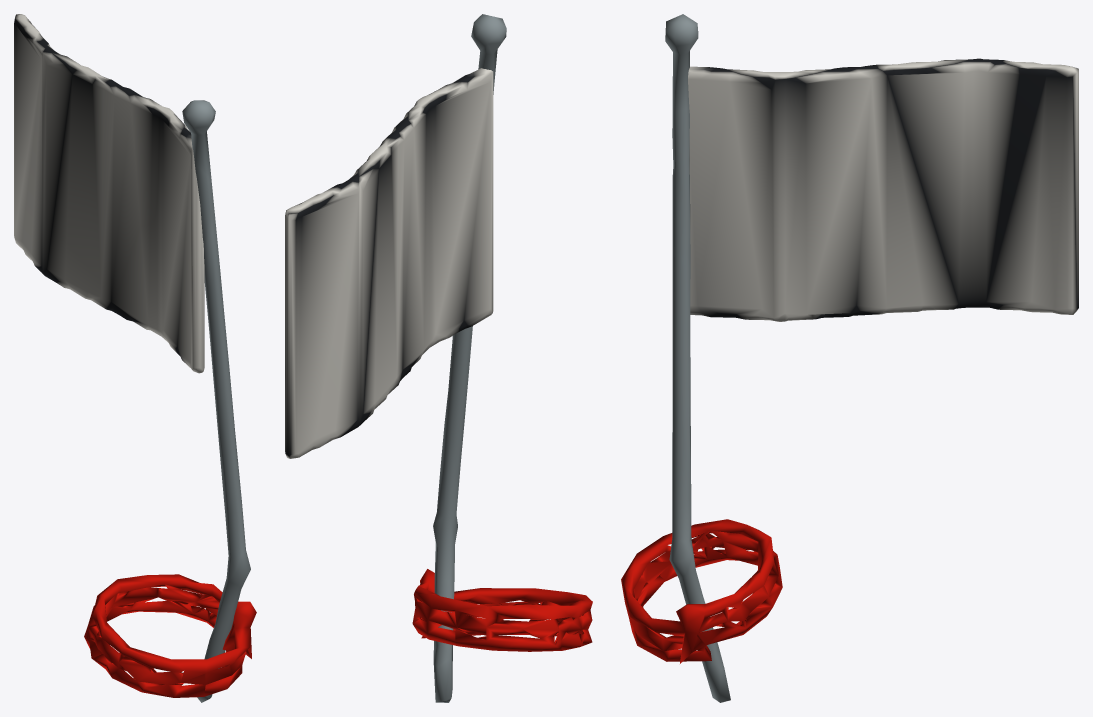
File: coduua.glb
3 renders of one model, left to right at view 1: azimuth 30°, elevation 25°; view 2: azimuth 150°, elevation 25°; view 3: azimuth 270°, elevation 25°, orthographic. The views are drawn at different scales.
Parts seen in each view (by area): view 1: La_Co, Day_Buoc, Can_Co; view 2: La_Co, Day_Buoc, Can_Co; view 3: La_Co, Day_Buoc, Can_Co.
Boxes of the visible parts, bbox=[...] form: La_Co: bbox=[14, 14, 204, 373]; Day_Buoc: bbox=[84, 574, 256, 697]; Can_Co: bbox=[182, 100, 250, 702]; La_Co: bbox=[285, 68, 493, 458]; Day_Buoc: bbox=[412, 569, 592, 651]; Can_Co: bbox=[433, 14, 506, 702]; La_Co: bbox=[688, 58, 1078, 321]; Day_Buoc: bbox=[621, 519, 782, 663]; Can_Co: bbox=[665, 14, 730, 702].
Size of the model in its own units: 0.0697 by 0.2635 by 0.1624.
